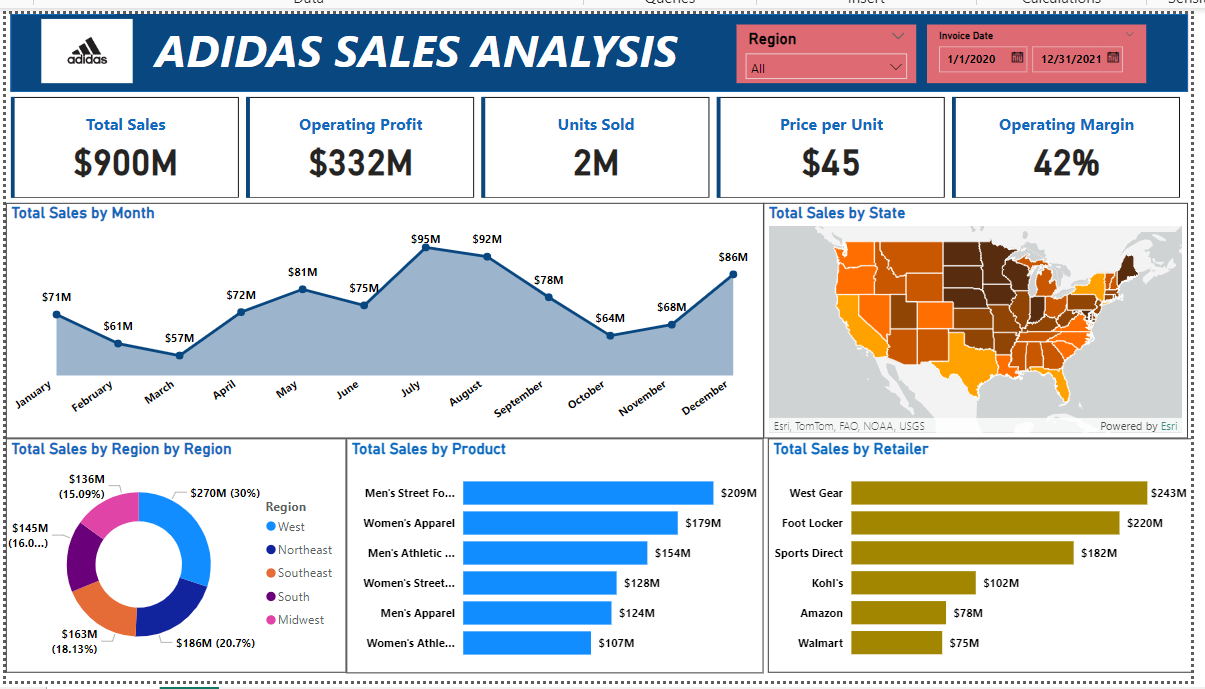

The dashboard page shown, as its layout file describes it:
{"tool":"powerbi","page":{"name":"Page 1","canvas":[1280,720],"ordinal":0},"visuals":[{"type":"shape","box":[4.9,0,1271.1,84.2],"z":0},{"type":"textbox","box":[118.2,0,649.3,79.3],"z":1000},{"type":"cardVisual","fields":{"Data":["Sum(Data Sales Adidas.Total Sales)","Sum(Data Sales Adidas.Operating Profit)","Sum(Data Sales Adidas.Units Sold)","Avg(Data Sales Adidas.Price per Unit)","Avg(Data Sales Adidas.Operating Margin)"]},"box":[0,84.2,1276,119.8],"z":2000},{"type":"areaChart","title":"Total Sales by Month","fields":{"Category":["Data Sales Adidas.Invoice Date.Variation.Date Hierarchy.Month"],"Y":["Sum(Data Sales Adidas.Total Sales)"]},"box":[0,204,817.7,254.2],"z":3000},{"type":"esriVisual","title":"Total Sales by State","fields":{"Location":["Data Sales Adidas.State"],"Color":["Sum(Data Sales Adidas.Total Sales)"]},"box":[817.7,204,458.2,254.2],"z":4000},{"type":"donutChart","fields":{"Category":["Data Sales Adidas.Region"],"Y":["Sum(Data Sales Adidas.Total Sales)"]},"box":[0,458.2,367.6,252.6],"z":5000},{"type":"barChart","fields":{"Y":["Sum(Data Sales Adidas.Total Sales)"],"Category":["Data Sales Adidas.Product"]},"box":[368,458,450,253],"z":6000},{"type":"barChart","fields":{"Category":["Data Sales Adidas.Retailer"],"Y":["Sum(Data Sales Adidas.Total Sales)"]},"box":[822.6,458.2,458.2,252.6],"z":7000},{"type":"slicer","fields":{"Values":["Data Sales Adidas.Region"]},"box":[788.6,11.3,194.3,63.1],"z":8000},{"type":"slicer","fields":{"Values":["Data Sales Adidas.Invoice Date"]},"box":[994.2,11.3,236.4,63.1],"z":9000},{"type":"image","box":[19.4,0,136,79.3],"z":10000}]}

Visuals, with their boxes in screenshot pixels (x1, y1, x2, y2):
shape: detection(5, 9, 1185, 88)
textbox: detection(110, 9, 713, 83)
cardVisual - Sum(Data Sales Adidas.Total Sales) x Sum(Data Sales Adidas.Operating Profit): detection(0, 88, 1185, 199)
"Total Sales by Month" areaChart: detection(0, 199, 759, 435)
"Total Sales by State" esriVisual: detection(759, 199, 1185, 435)
donutChart - Data Sales Adidas.Region x Sum(Data Sales Adidas.Total Sales): detection(0, 435, 341, 669)
barChart - Sum(Data Sales Adidas.Total Sales) x Data Sales Adidas.Product: detection(342, 435, 759, 669)
barChart - Data Sales Adidas.Retailer x Sum(Data Sales Adidas.Total Sales): detection(764, 435, 1189, 669)
slicer - Data Sales Adidas.Region: detection(732, 20, 913, 78)
slicer - Data Sales Adidas.Invoice Date: detection(923, 20, 1142, 78)
image: detection(18, 9, 144, 83)
